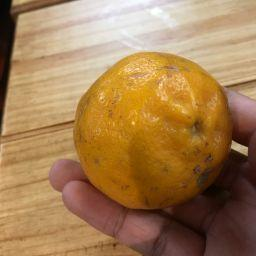Unripe: (72, 53, 235, 209)
